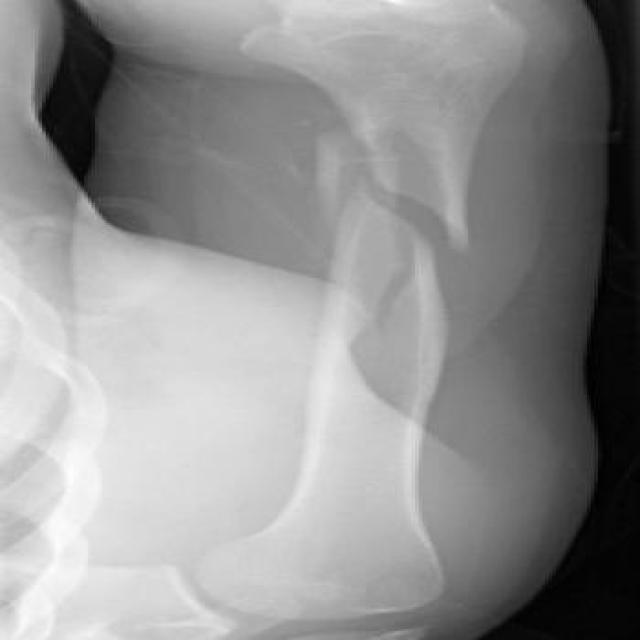Fracture: (316, 156, 486, 242), (322, 270, 452, 332)
